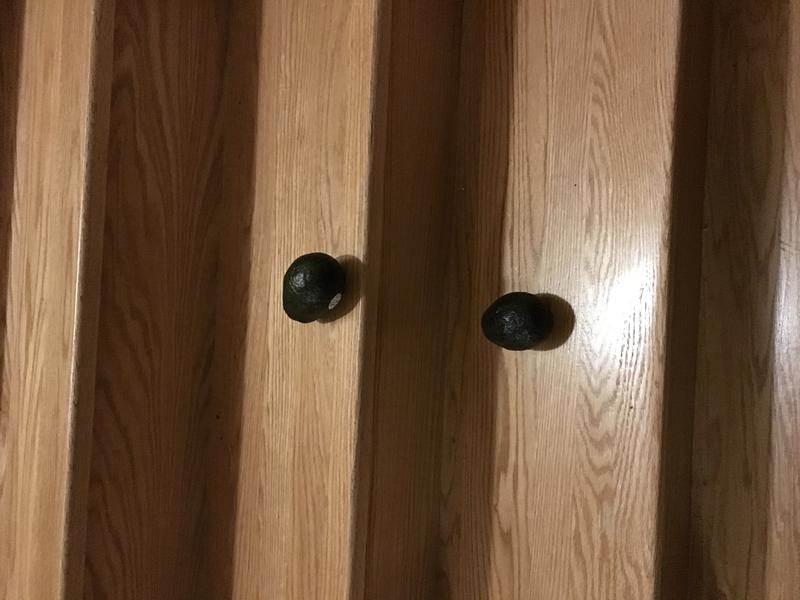avacado: (272, 246, 350, 331), (474, 284, 553, 359)
